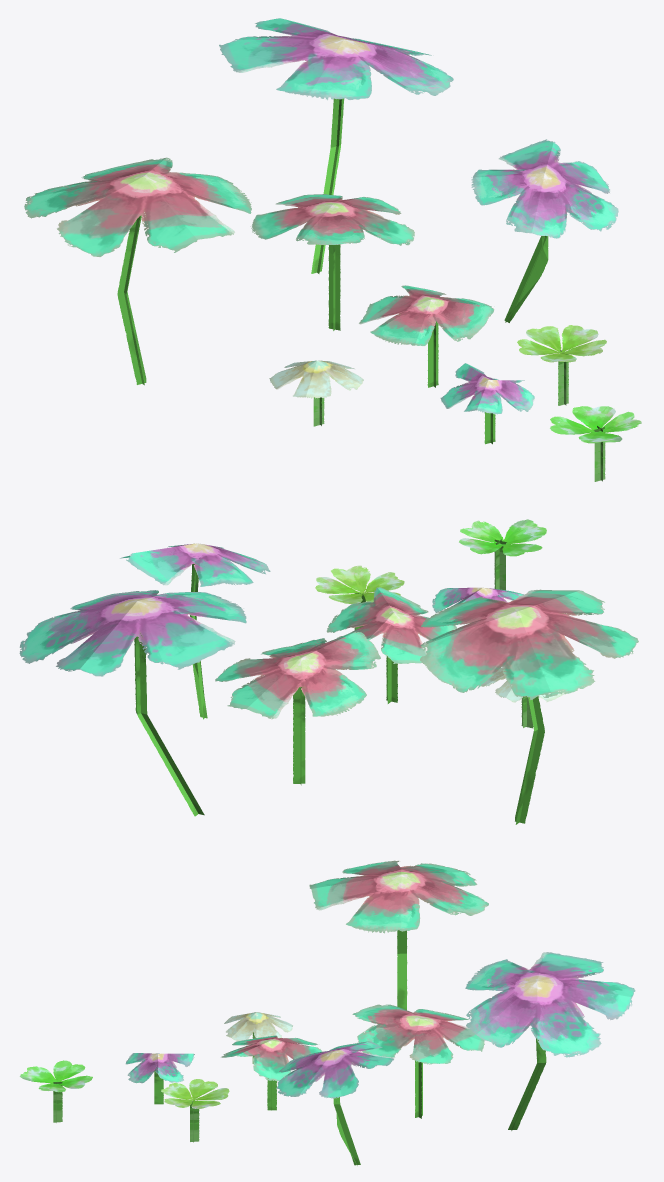
The model's file is T_flower01.fbx.
3 renders of one model, top to bottom at view 1: azimuth 30°, elevation 25°; view 2: azimuth 150°, elevation 25°; view 3: azimuth 270°, elevation 25°, orthographic. The views are drawn at different scales.
Parts seen in each view (by area): view 1: FLOWERES03; view 2: FLOWERES03; view 3: FLOWERES03.
Part boxes in pixels (x1,y1,x2,y2): FLOWERES03: [24, 18, 641, 481]; FLOWERES03: [19, 519, 638, 824]; FLOWERES03: [19, 860, 635, 1165].
Bounding box in the file's own units: 295 × 109 × 375.
